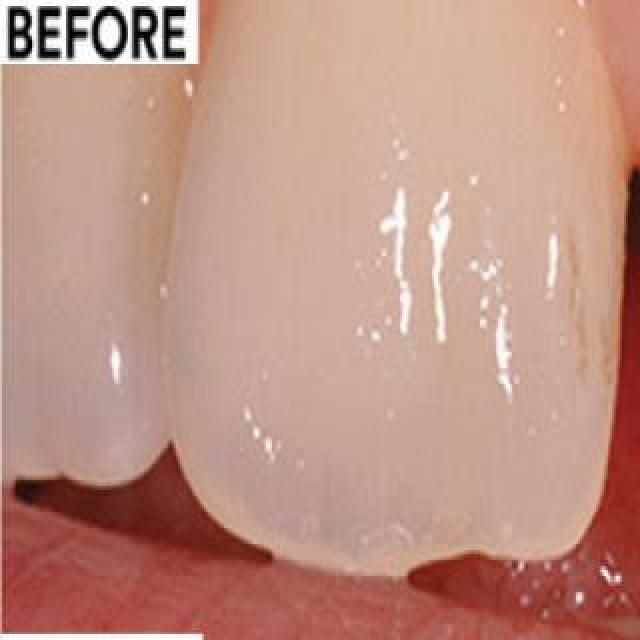spacing: (558, 70, 640, 566)
